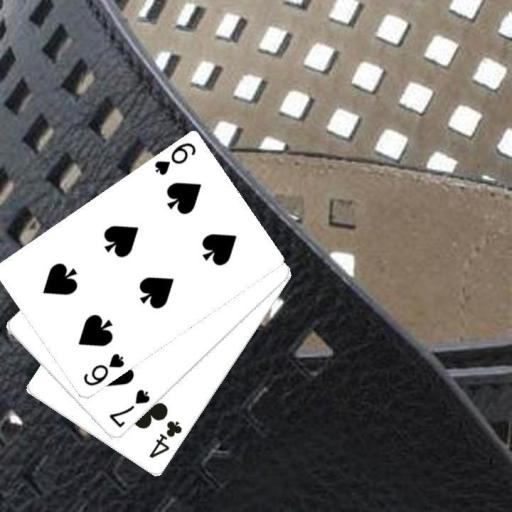4C: (146, 418, 184, 460)
6S: (151, 139, 198, 178), (80, 351, 126, 388)
7S: (106, 386, 151, 430)
